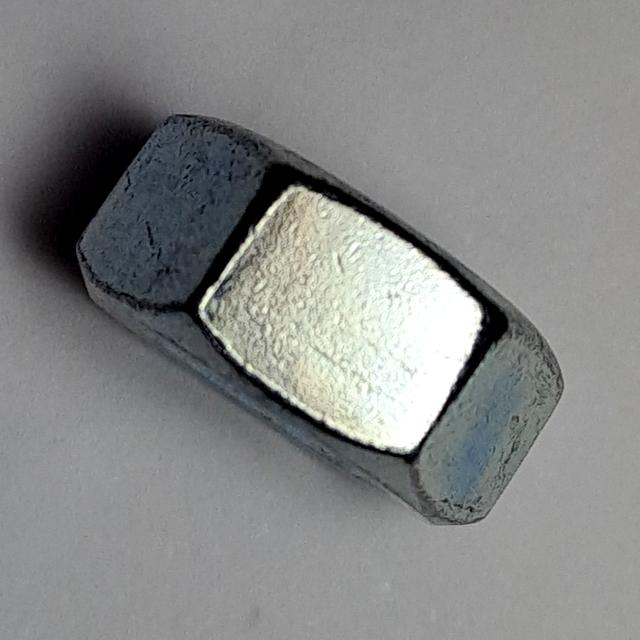Side_Excellent: (66, 107, 575, 538)
